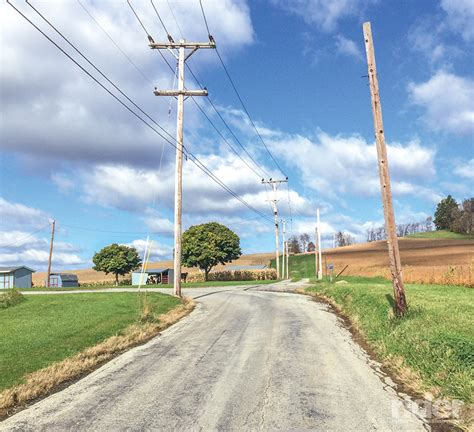pole: (331, 13, 427, 316), (135, 27, 223, 297), (251, 168, 302, 285), (307, 204, 332, 282), (36, 213, 63, 285)
